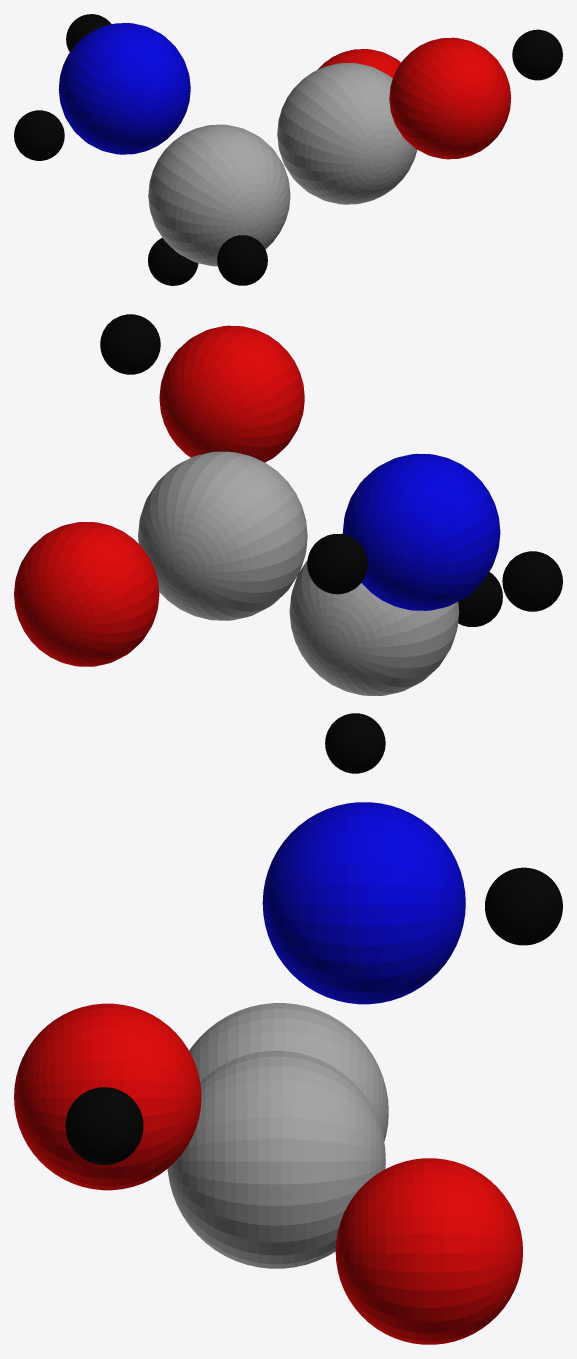
Rendered from Glycine.glb.
The picture shows the model from 3 angles, top to bottom: view 1: azimuth 30°, elevation 25°; view 2: azimuth 150°, elevation 25°; view 3: azimuth 270°, elevation 25°; orthographic projection. The views are drawn at different scales.
Parts seen in each view (by area): view 1: world; view 2: world; view 3: world.
Part boxes in pixels (x1,y1,x2,y2): world: (14,14,562,285); world: (14,314,562,773); world: (14,802,562,1344).
Size of the model in its own units: 5.25 by 2.93 by 3.51.
